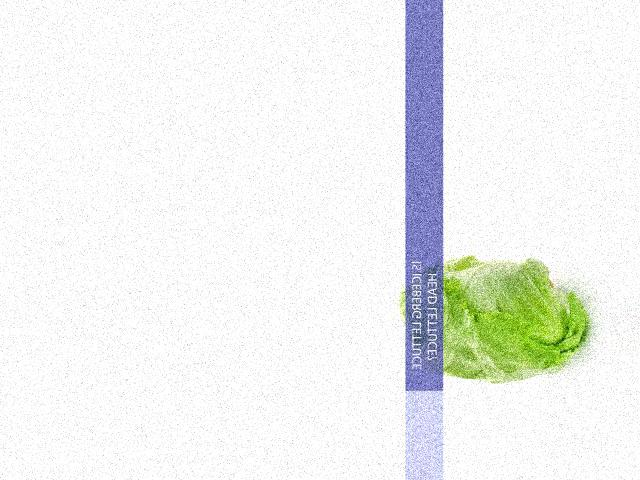lettuce: (399, 252, 532, 425)
